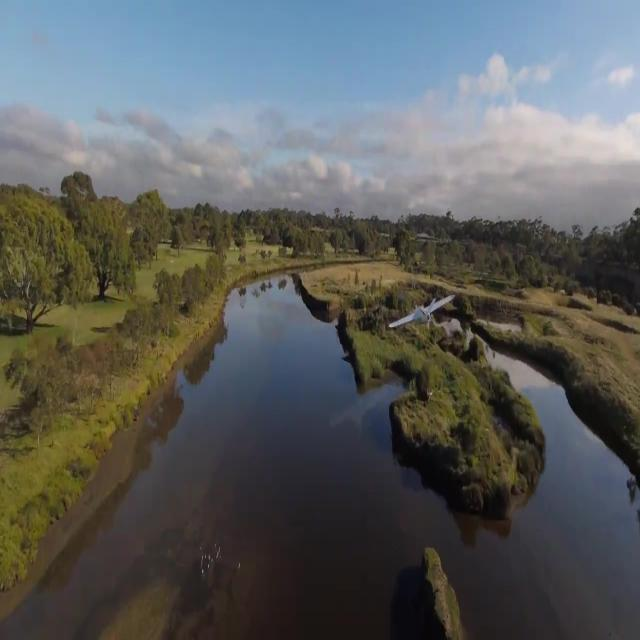iha: (420, 293, 422, 331)
